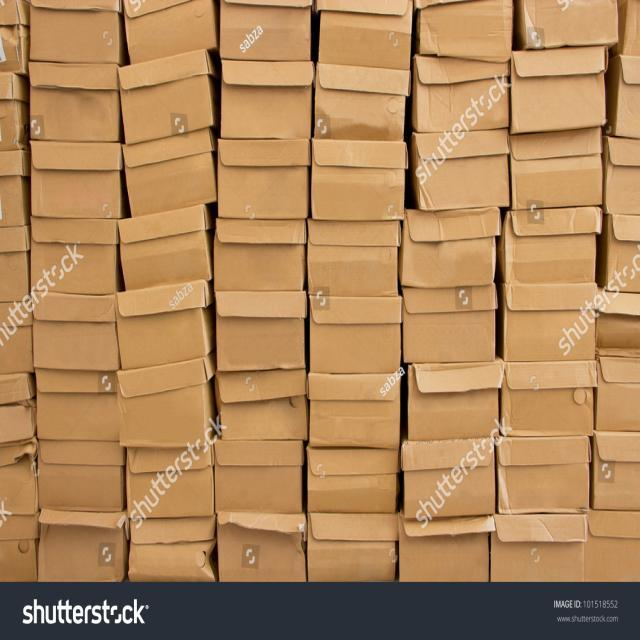BoxFace: (118, 49, 214, 144), (121, 128, 217, 218), (116, 280, 206, 370), (119, 205, 212, 291), (512, 47, 606, 131), (119, 357, 208, 445), (501, 360, 598, 438), (416, 131, 509, 212), (308, 296, 401, 377), (508, 128, 602, 208), (496, 434, 592, 512), (221, 59, 313, 140), (407, 362, 500, 442), (312, 142, 406, 221), (403, 210, 502, 285), (218, 137, 310, 217), (216, 290, 308, 370), (27, 62, 119, 142), (402, 286, 497, 363), (29, 140, 122, 218), (415, 56, 510, 132), (401, 442, 497, 517), (502, 208, 600, 281), (306, 375, 401, 450), (504, 284, 596, 361), (31, 293, 118, 372), (318, 0, 413, 72), (309, 220, 399, 296), (216, 368, 309, 440), (214, 440, 304, 514), (214, 218, 306, 290), (31, 217, 118, 293), (36, 438, 124, 513), (490, 516, 587, 584), (309, 511, 398, 585), (315, 68, 409, 138), (398, 514, 490, 582), (216, 514, 305, 584), (35, 368, 120, 441), (122, 0, 216, 66), (417, 0, 512, 65), (128, 516, 218, 584), (36, 513, 126, 581), (308, 447, 398, 514), (127, 447, 213, 517), (220, 0, 312, 62), (29, 0, 120, 62), (522, 0, 620, 48), (587, 510, 640, 581), (592, 434, 640, 508), (597, 358, 640, 433), (0, 442, 37, 517), (605, 139, 640, 217), (597, 295, 640, 357), (606, 216, 640, 290), (0, 516, 37, 584), (0, 372, 34, 440), (0, 226, 30, 302), (0, 302, 32, 373), (617, 54, 640, 137), (0, 72, 23, 152), (0, 0, 24, 74), (0, 150, 23, 226)
